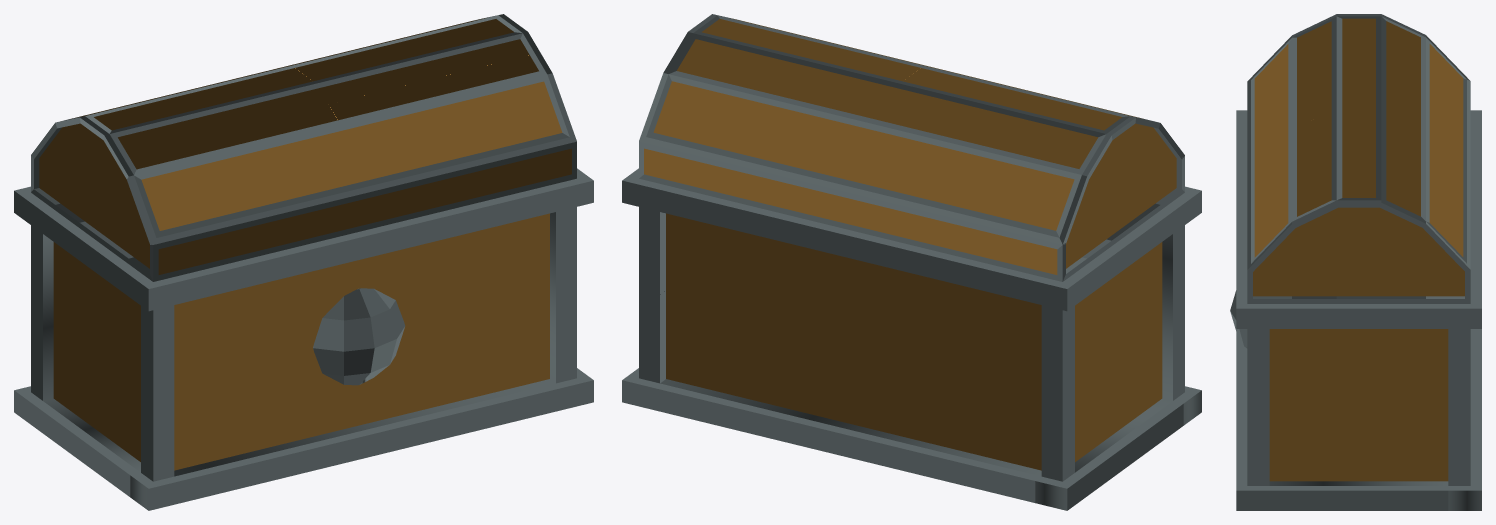
Rendered from Low Poly Chest.fbx.
The picture shows the model from 3 angles, left to right: view 1: azimuth 30°, elevation 25°; view 2: azimuth 150°, elevation 25°; view 3: azimuth 270°, elevation 25°; orthographic projection. The views are drawn at different scales.
Visible parts, largest first — view 1: Chest_Base, Chest_Lid; view 2: Chest_Base, Chest_Lid; view 3: Chest_Lid, Chest_Base.
Boxes of the visible parts, box(x1,y1,x2,y2) form: Chest_Base: box(14, 168, 593, 510); Chest_Lid: box(31, 14, 576, 281); Chest_Base: box(622, 168, 1201, 510); Chest_Lid: box(639, 14, 1184, 281); Chest_Lid: box(1247, 14, 1470, 303); Chest_Base: box(1230, 110, 1481, 510).
Size of the model in its own units: 420 by 300 by 226.
